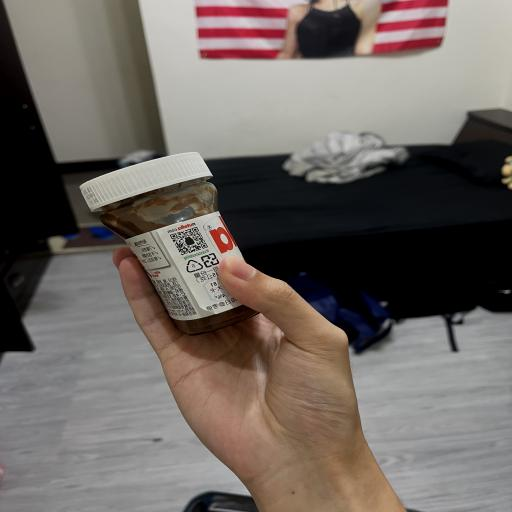chocolate_jar: (81, 153, 248, 334)
